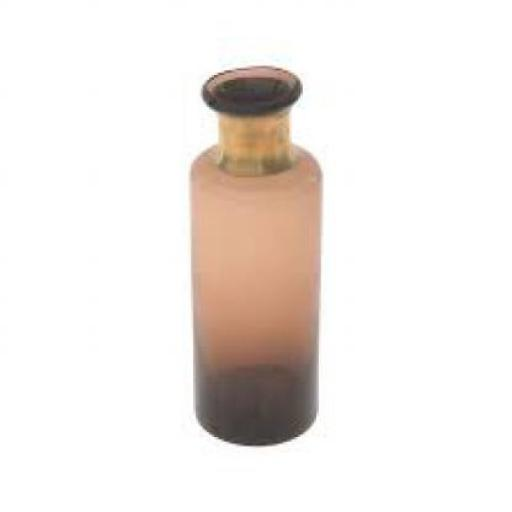glass: (186, 64, 317, 446)
